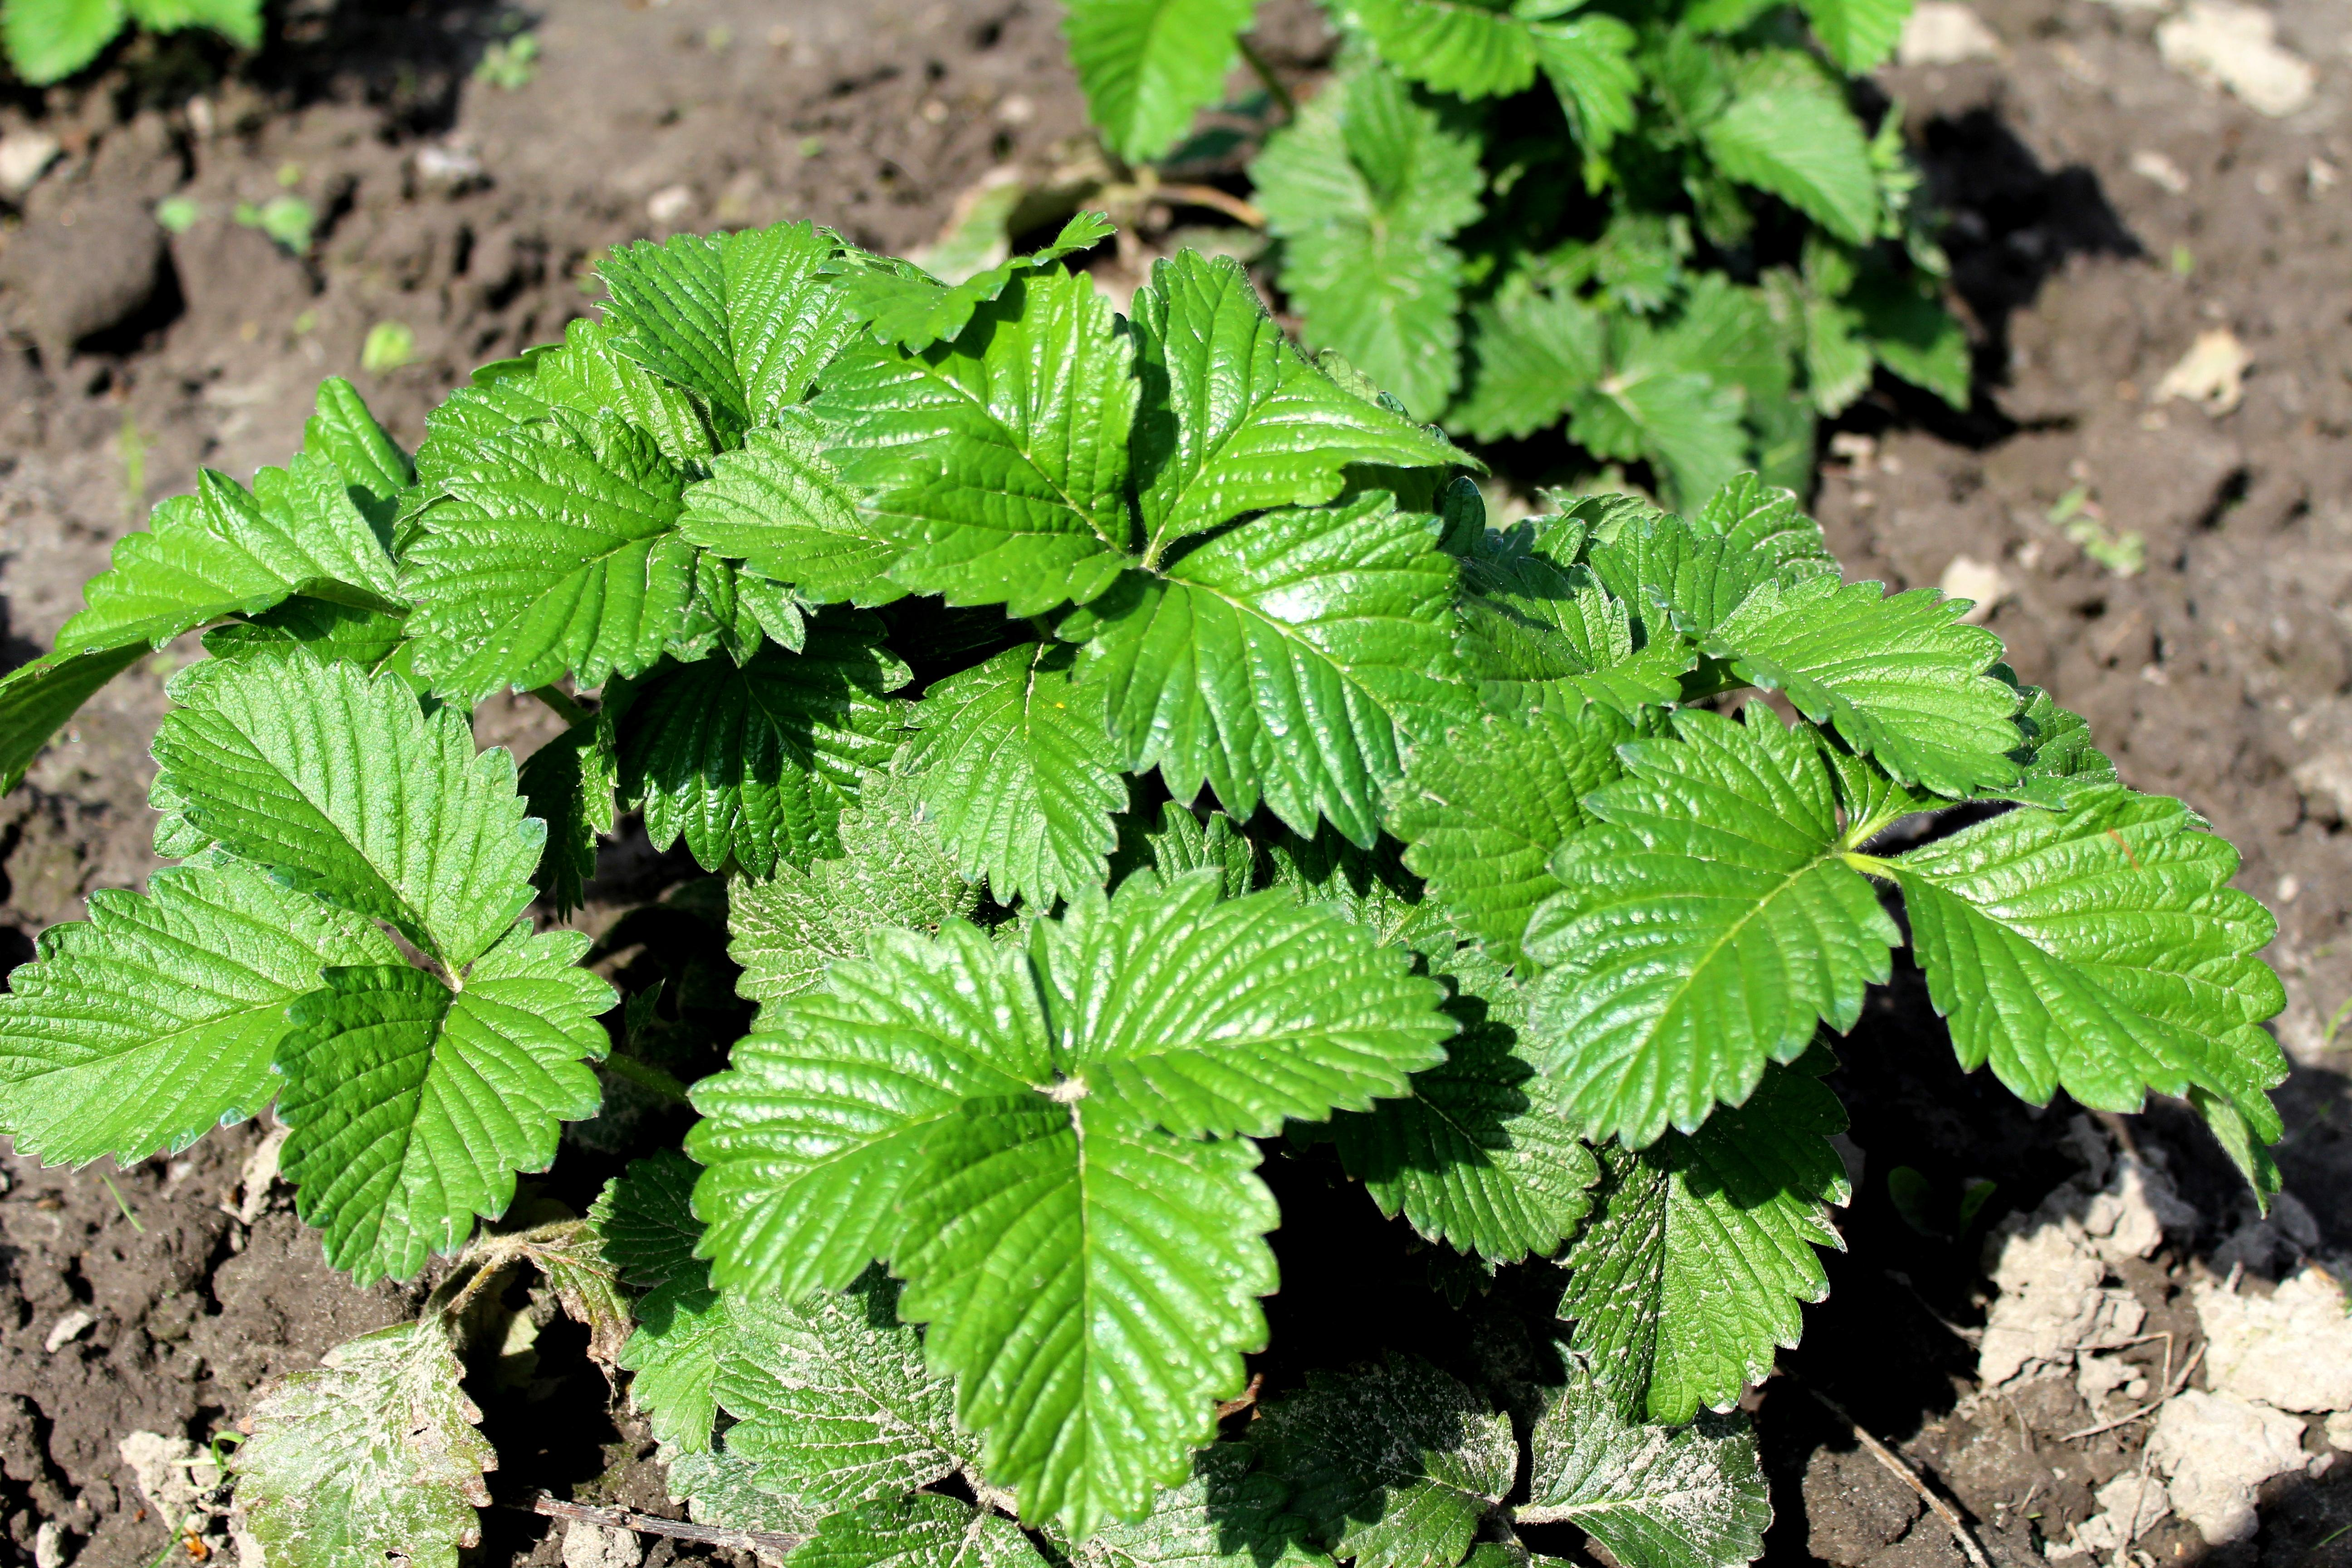Strawberry leaf: (915, 1087, 1286, 1526), (1514, 731, 1902, 1148), (1878, 796, 2312, 1166), (669, 906, 1050, 1295), (1104, 488, 1496, 857), (828, 247, 1171, 620), (142, 647, 553, 952), (276, 968, 618, 1304), (1134, 219, 1473, 555), (1008, 892, 1458, 1143), (67, 859, 408, 1183), (402, 390, 737, 705), (1677, 546, 2026, 805), (607, 170, 866, 443)
